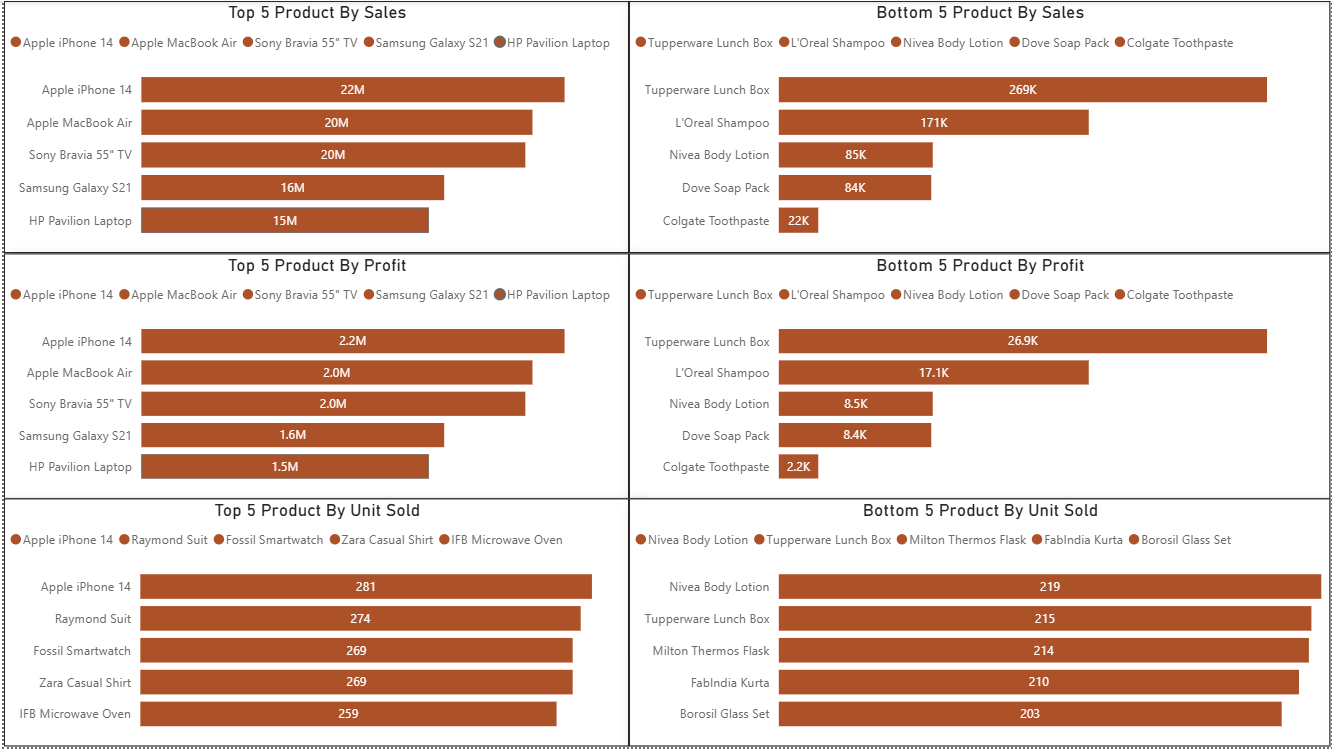

The page's visual inventory and layout, read from the dashboard file:
{"tool":"powerbi","page":{"name":"Top/Bottom 5 Product Analysis","canvas":[1280,720],"ordinal":0},"visuals":[{"type":"barChart","title":"Top 5 Product By Sales","fields":{"Y":["Sum(Fact Table.Net Sales)"],"Category":["Dim Product.Product Name"],"Series":["Dim Product.Product Name"]},"box":[0,0,603.3,243.6],"z":0},{"type":"barChart","title":"Bottom 5 Product By Sales","fields":{"Y":["Sum(Fact Table.Net Sales)"],"Category":["Dim Product.Product Name"],"Series":["Dim Product.Product Name"]},"box":[603.3,0,677,243.6],"z":1000},{"type":"barChart","title":"Top 5 Product By Profit","fields":{"Category":["Dim Product.Product Name"],"Series":["Dim Product.Product Name"],"Y":["Sum(Fact Table.Profit)"]},"box":[0,243.6,603.3,236.5],"z":2000},{"type":"barChart","title":"Bottom 5 Product By Profit","fields":{"Category":["Dim Product.Product Name"],"Series":["Dim Product.Product Name"],"Y":["Sum(Fact Table.Profit)"]},"box":[603.3,243.6,677,236.5],"z":3000},{"type":"barChart","title":"Top 5 Product By Unit Sold","fields":{"Category":["Dim Product.Product Name"],"Series":["Dim Product.Product Name"],"Y":["Sum(Fact Table.Units Sold)"]},"box":[0,480.1,603.3,239.3],"z":4000},{"type":"barChart","title":"Bottom 5 Product By Unit Sold","fields":{"Category":["Dim Product.Product Name"],"Series":["Dim Product.Product Name"],"Y":["Sum(Fact Table.Units Sold)"]},"box":[603.3,480.1,677,239.3],"z":5000}]}

Visuals, with their boxes in screenshot pixels (x1, y1, x2, y2), scaled from the page's 1280x720 canvas onto the 1332x749 screenshot:
"Top 5 Product By Sales" barChart: bbox(0, 0, 628, 253)
"Bottom 5 Product By Sales" barChart: bbox(628, 0, 1331, 253)
"Top 5 Product By Profit" barChart: bbox(0, 253, 628, 499)
"Bottom 5 Product By Profit" barChart: bbox(628, 253, 1331, 499)
"Top 5 Product By Unit Sold" barChart: bbox(0, 499, 628, 748)
"Bottom 5 Product By Unit Sold" barChart: bbox(628, 499, 1331, 748)
